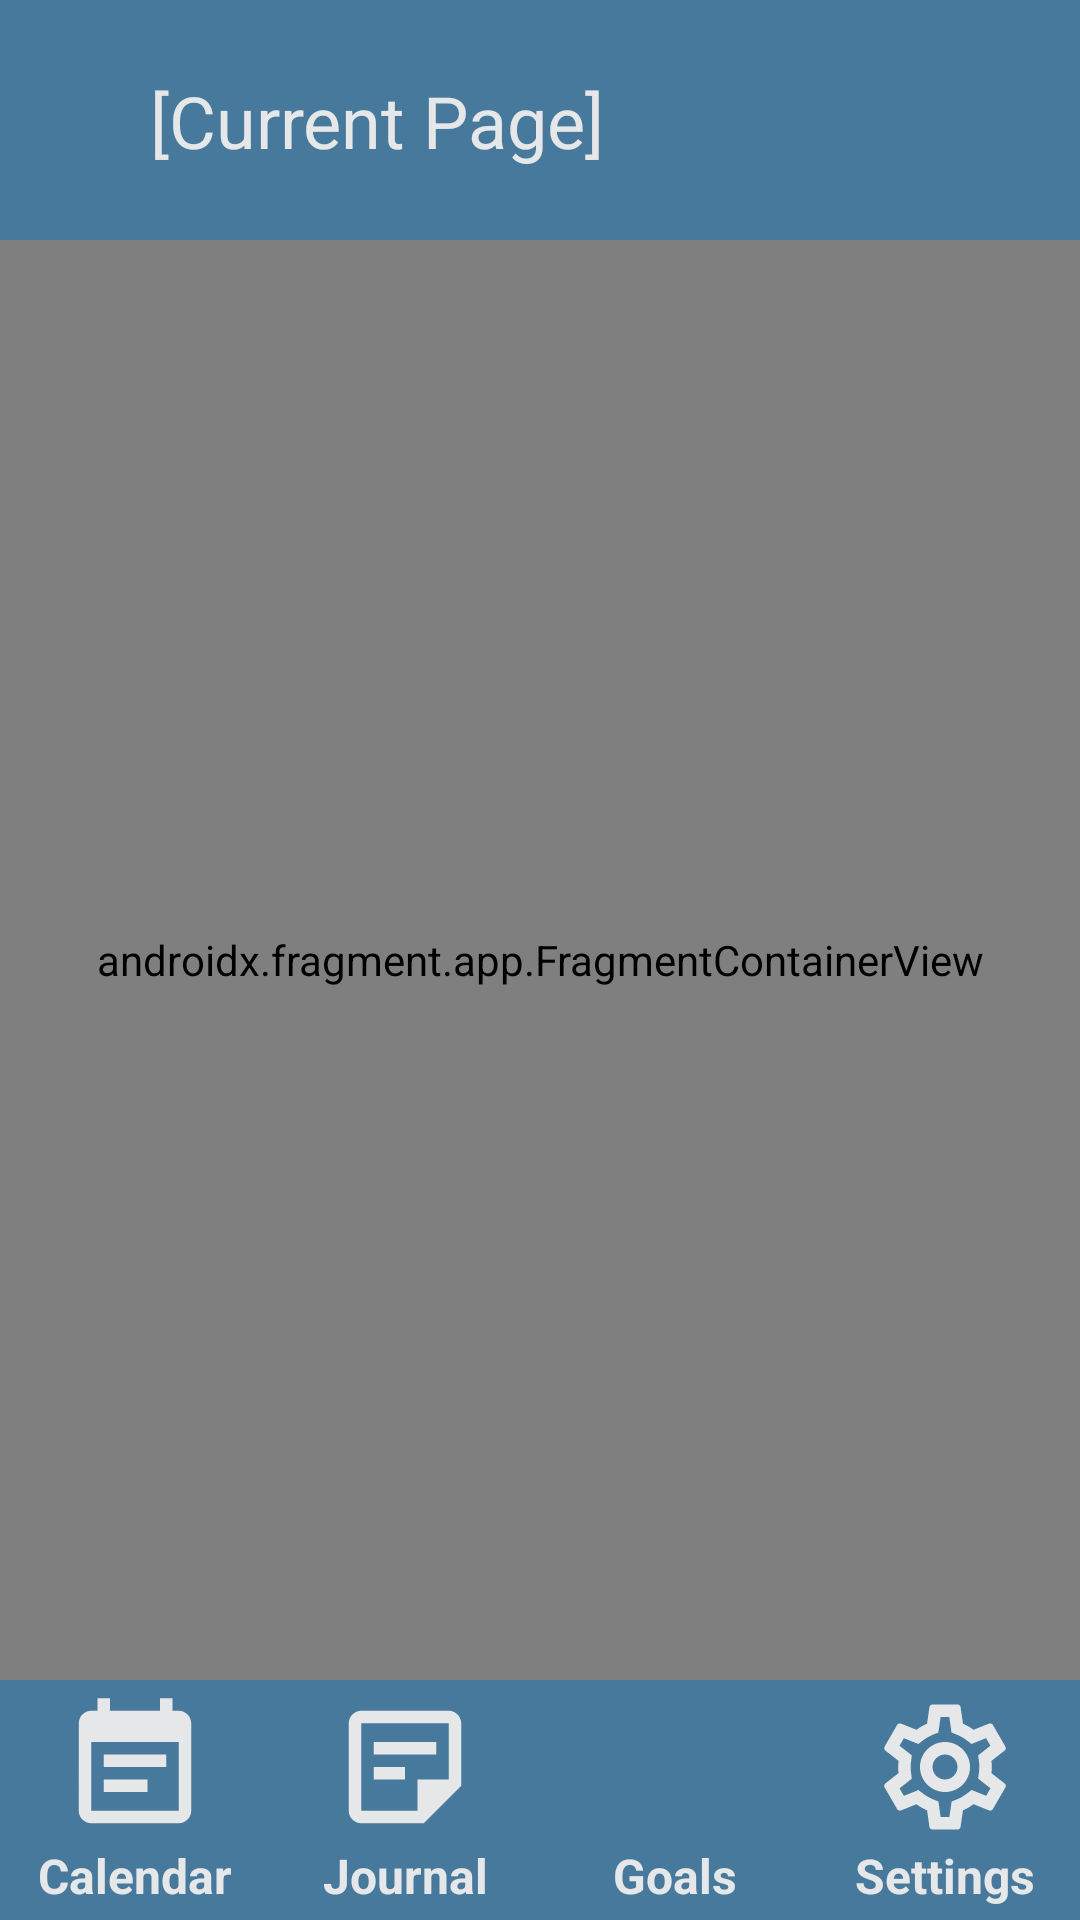

Named icons in this screenshot (1080w x 1920h) and their bounding boxes, (x1, y1, x2, y2):
event note: (78, 1698, 192, 1824)
sticky note: (348, 1710, 462, 1824)
